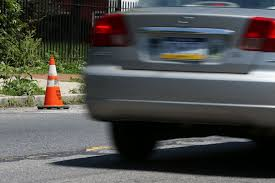car: (88, 1, 275, 165)
cone: (36, 57, 68, 108)
